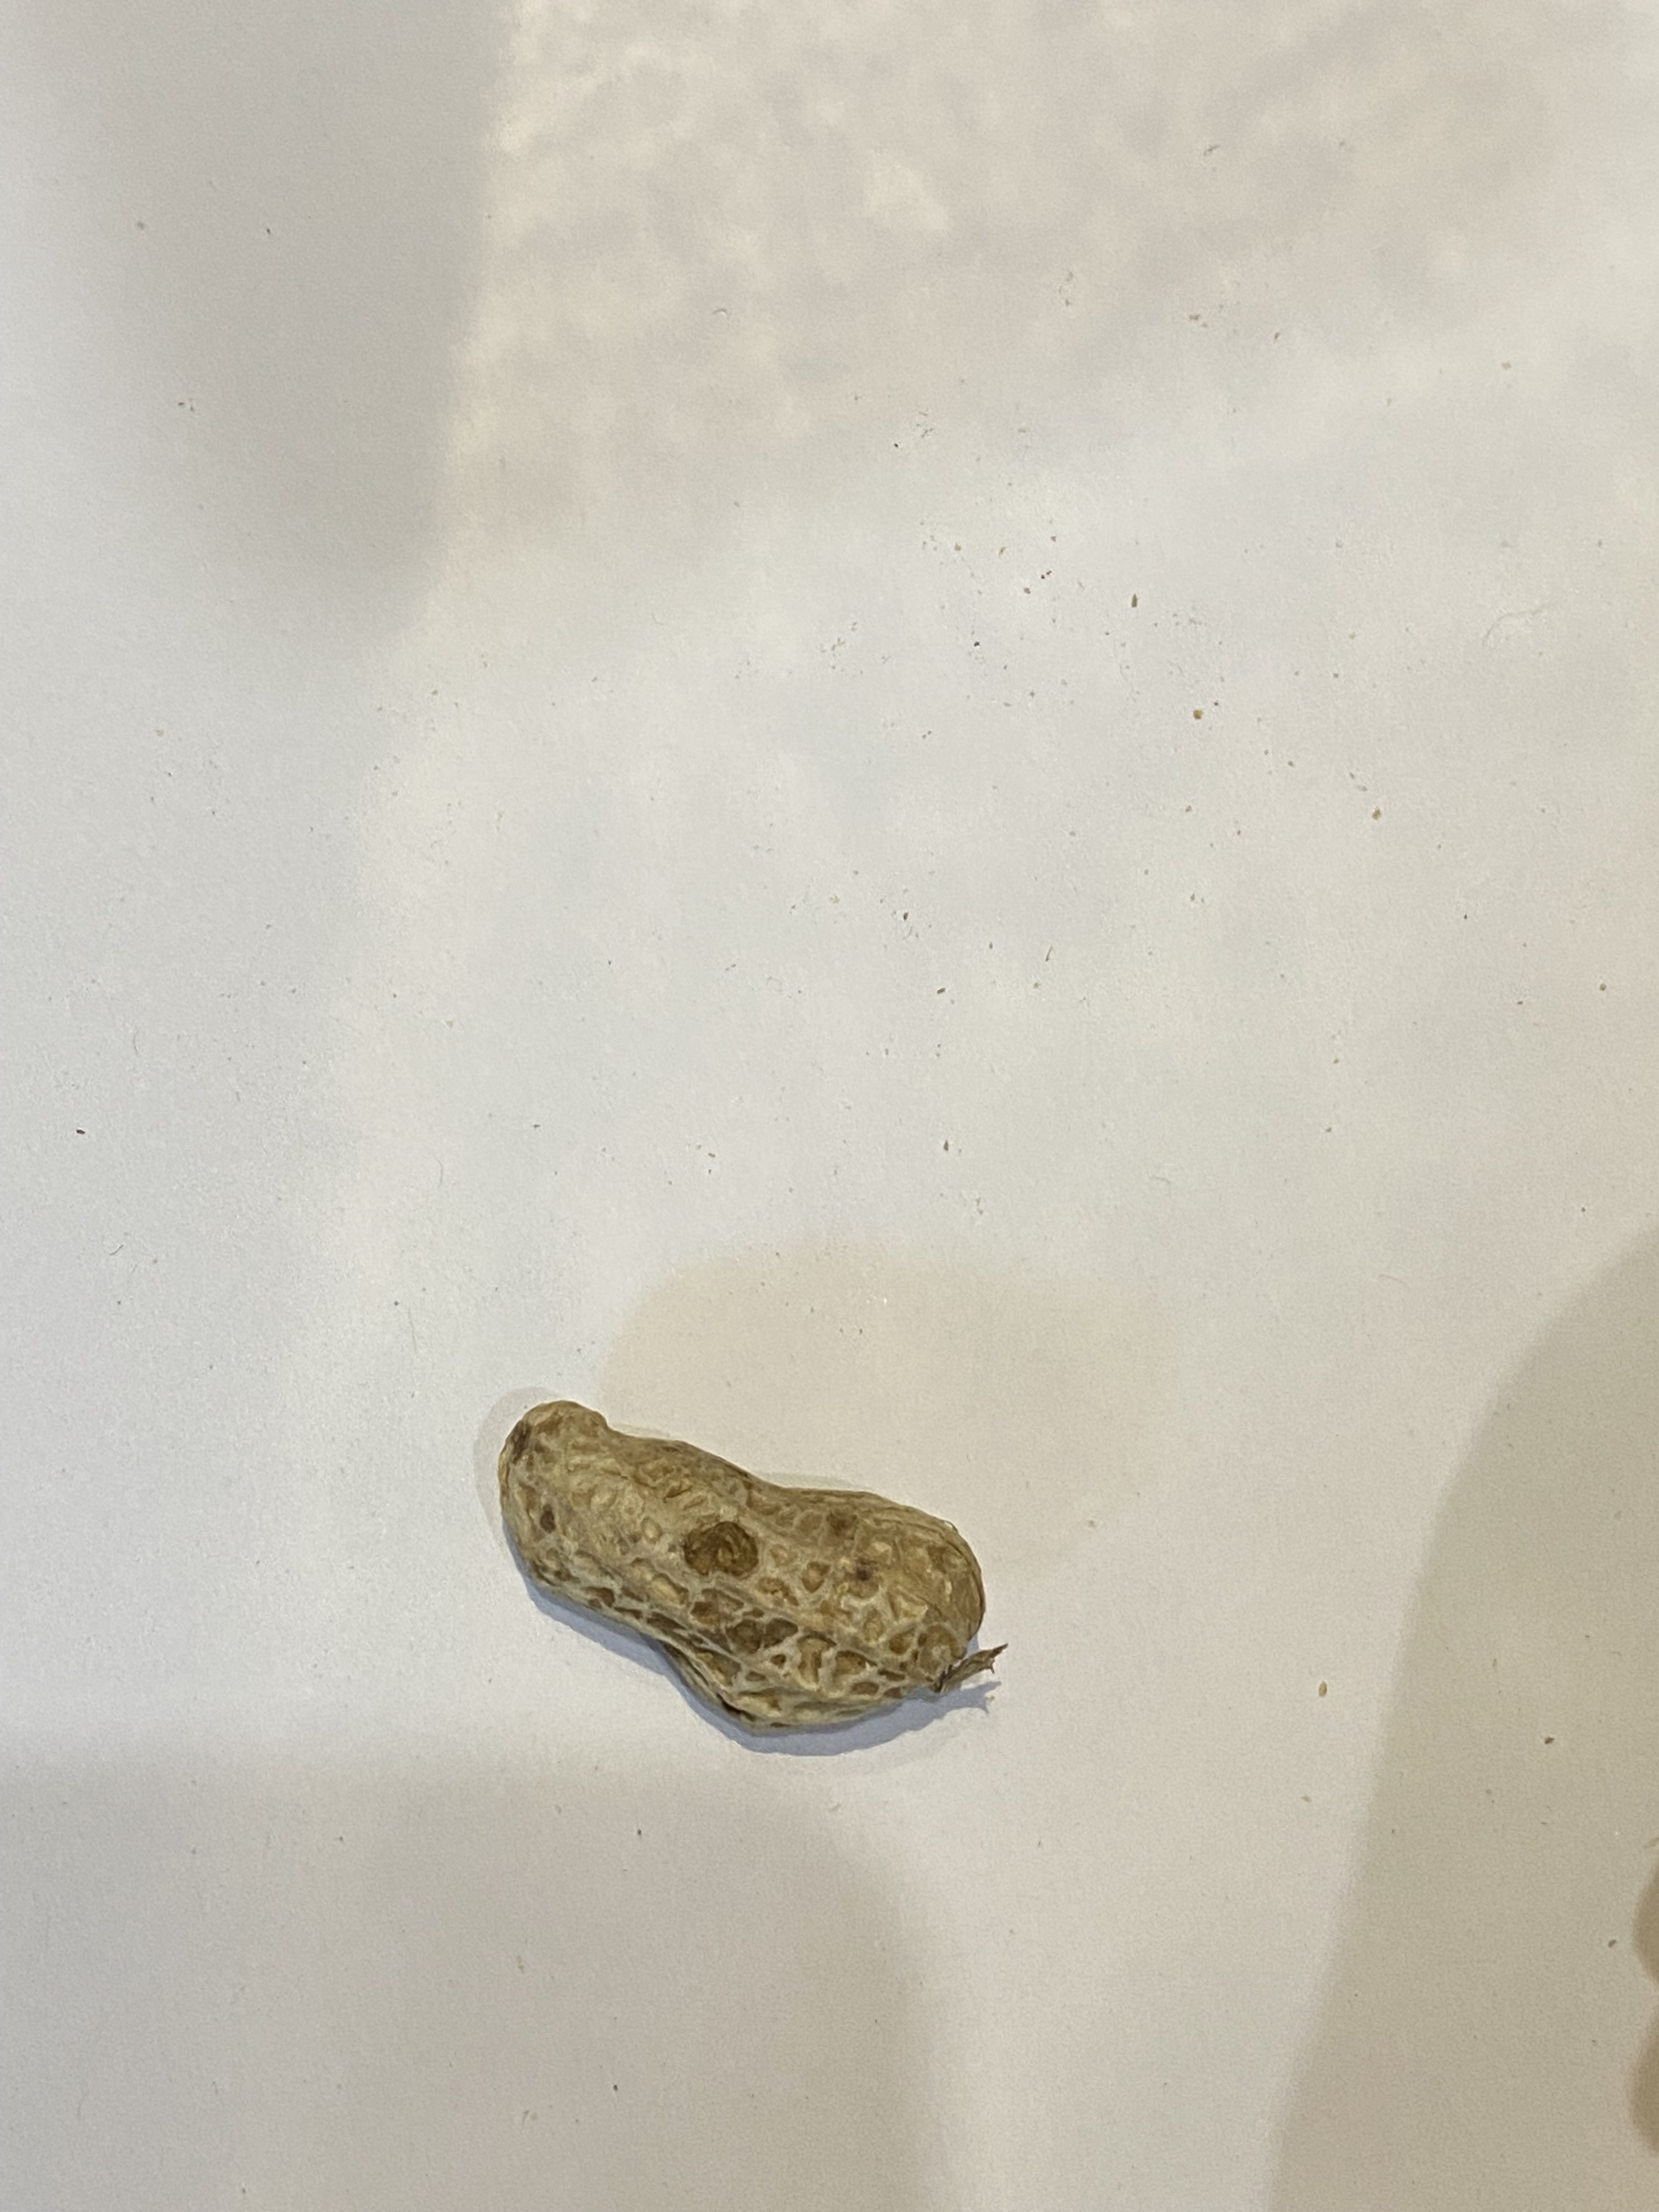kacang2: (437, 1364, 1006, 1737)
